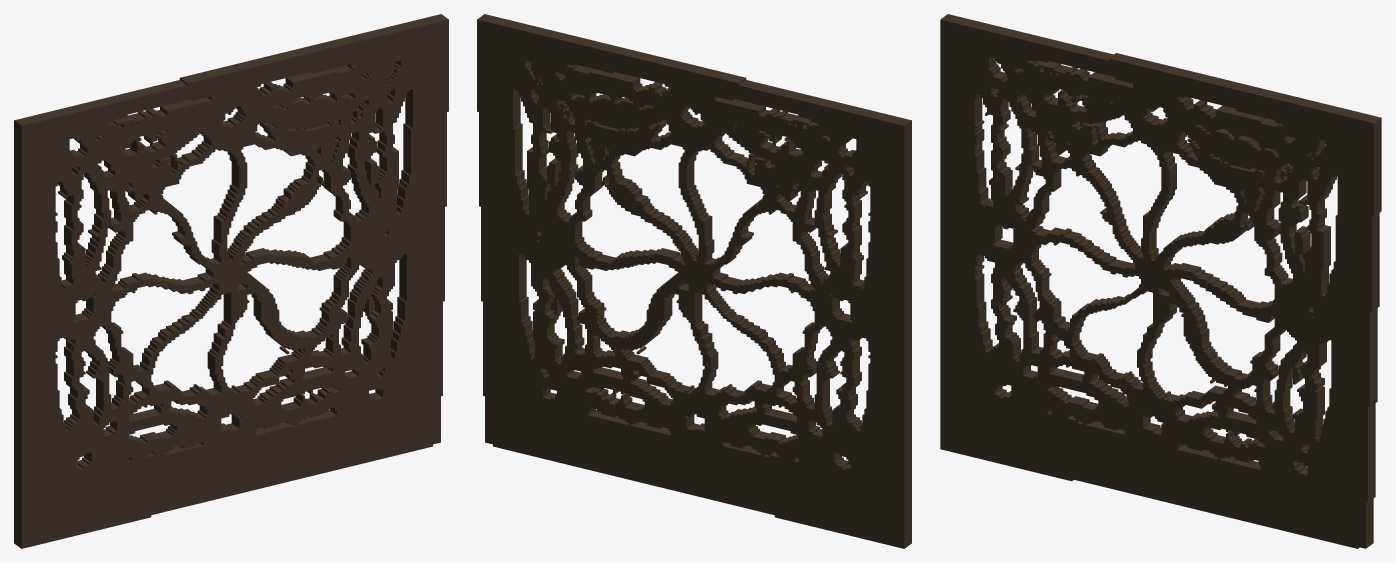
The model's file is lattice_window.glb.
The picture shows the model from 3 angles, left to right: view 1: azimuth 30°, elevation 25°; view 2: azimuth 150°, elevation 25°; view 3: azimuth 330°, elevation 25°; orthographic projection.
Visible parts, largest first — view 1: Lattice_Silhouette; view 2: Lattice_Silhouette; view 3: Lattice_Silhouette.
Boxes of the visible parts, x1,y1,x2,y2 form: Lattice_Silhouette: [14, 14, 448, 548]; Lattice_Silhouette: [477, 14, 911, 548]; Lattice_Silhouette: [940, 14, 1381, 548].
Size of the model in its own units: 1.5 by 1.43 by 0.0458.
